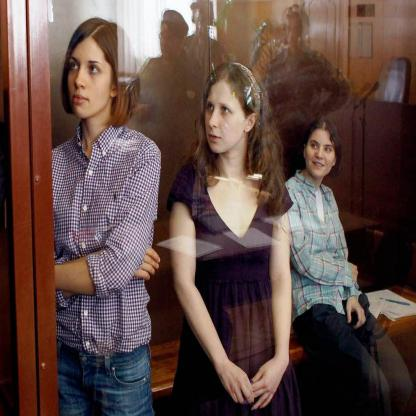face: (68, 31, 111, 120), (205, 76, 244, 157), (306, 130, 337, 179)
